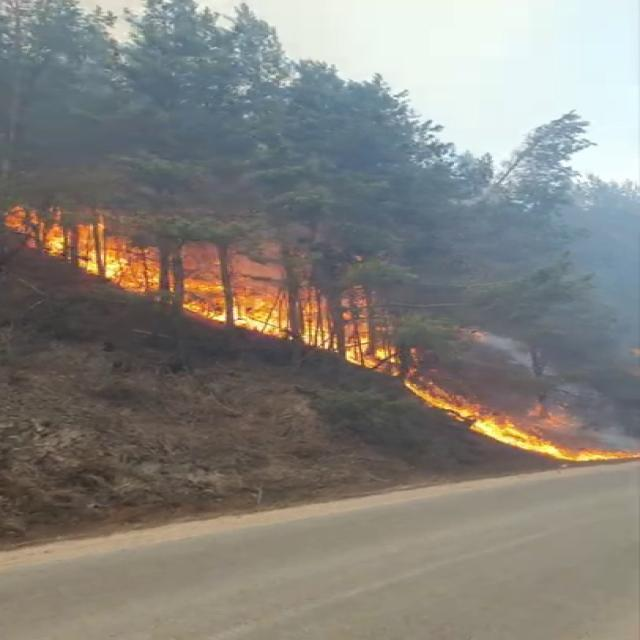Fire: (178, 250, 405, 370), (405, 380, 635, 464), (3, 196, 164, 294)
